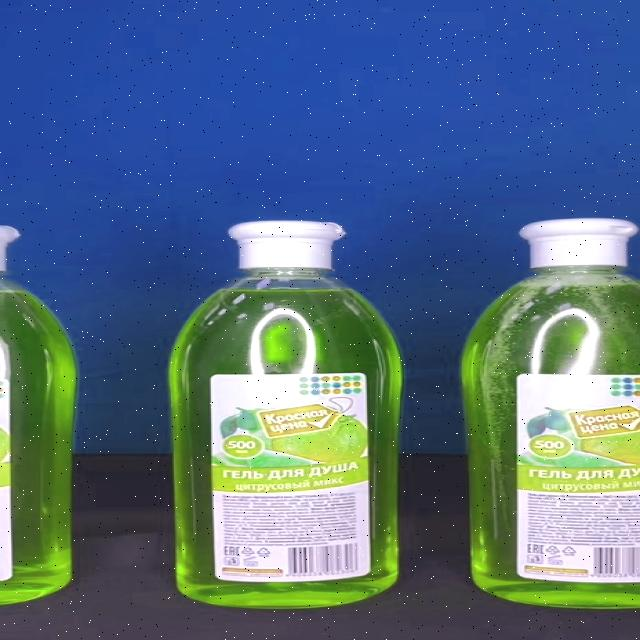Bottle: (168, 220, 402, 609), (460, 218, 640, 607)
Cap: (226, 222, 346, 270), (520, 219, 638, 266)
